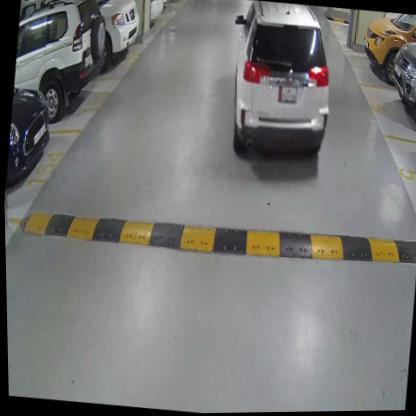np: (277, 87, 298, 107)
